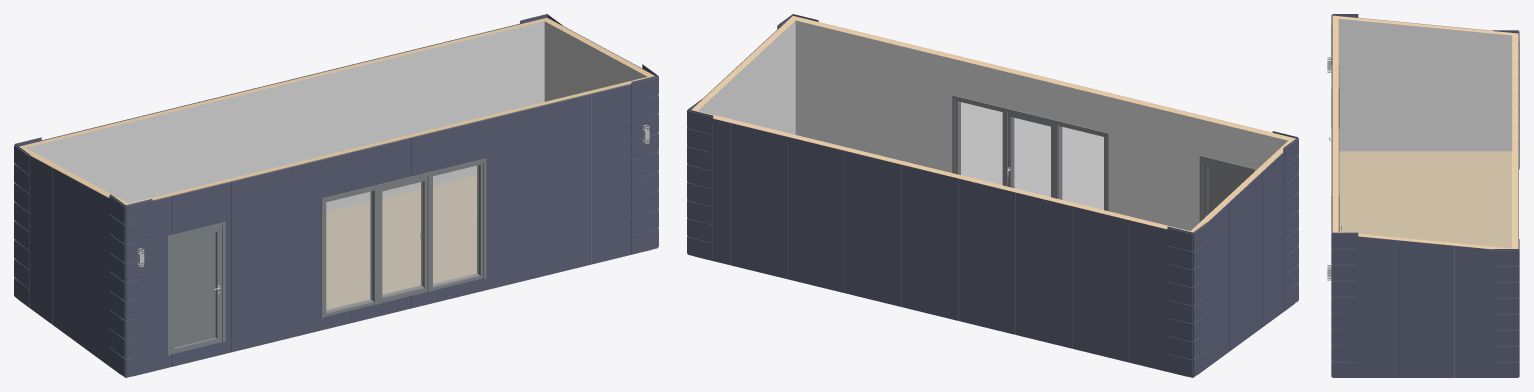
File: rastine@coliuke.vilnius.lm.fbx
3 renders of one model, left to right at view 1: azimuth 30°, elevation 25°; view 2: azimuth 150°, elevation 25°; view 3: azimuth 270°, elevation 25°, orthographic. The views are drawn at different scales.
Parts seen in each view (by area): view 1: IfcWall/Part:2397154, IfcSlab/Part:2319985, IfcPlate/System Panel:Sandwich užbaigimas Multisplit:3736130, IfcPlate/System Panel:Sandwich užbaigimas Multisplit:3736140, IfcBuildingElementProxy/Kampai Kvadratiniai - line based:Mu. (×3), IfcPlate/System Panel:Sandwich užbaigimas Multisplit:3736132, IfcPlate/System Panel:Sandwich užbaigimas Multisplit:3736127, IfcDoor/Durys išorinės:1000x2100x120 (kairinės):2439432, IfcWindow/Langai (Akrusta):1000x2100x120:3747501, IfcPlate/System Panel:Sandwich užbaigimas Multisplit:3736138, IfcWindow/Langai (Akrusta):1000x2100x120:2624920, IfcWindow/Langai (Akrusta):1000x2100x120 (dešininis):2574595 (+13 smaller); view 2: IfcWall/Part:2319976, IfcBuildingElementProxy/Kampai Kvadratiniai - line based:Mu. (×4), IfcPlate/System Panel:Sandwich užbaigimas Multisplit:3736084, IfcPlate/System Panel:Sandwich užbaigimas Multisplit:3736082, IfcPlate/System Panel:Sandwich užbaigimas Multisplit:3736086, IfcPlate/System Panel:Sandwich užbaigimas Multisplit:3736078, IfcPlate/System Panel:Sandwich užbaigimas Multisplit:3736074, IfcPlate/System Panel:Sandwich užbaigimas Multisplit:3736080, IfcPlate/System Panel:Sandwich užbaigimas Multisplit:3736076, IfcWall/Part:2397151, IfcPlate/System Panel:Sandwich užbaigimas Multisplit:3736071, IfcPlate/System Panel:Sandwich užbaigimas Multisplit:3736112 (+11 smaller); view 3: IfcWall/Part:2368365, IfcSlab/Part:2319985, IfcPlate/System Panel:Sandwich užbaigimas Multisplit:3736058, IfcPlate/System Panel:Sandwich užbaigimas Multisplit:3736060, IfcPlate/System Panel:Sandwich užbaigimas Multisplit:3736055, IfcBuildingElementProxy/Kampai Kvadratiniai - line based:Mu. (×2), IfcBuildingElementProxy/Kampai Kvadratiniai - line based:Mu, IfcWall/Part:2319978, IfcWall/Part:2397156, IfcWall/Part:2368367, IfcWall/Part:2397153, IfcBuildingElementProxy/Kampai Kvadratiniai - line based:Mul (+3 smaller).
Part boxes in pixels (left/top/right/bottom): IfcWall/Part:2397154: left=25, top=21, right=544, bottom=211; IfcSlab/Part:2319985: left=326, top=175, right=476, bottom=309; IfcPlate/System Panel:Sandwich užbaigimas Multisplit:3736130: left=531, top=94, right=591, bottom=278; IfcPlate/System Panel:Sandwich užbaigimas Multisplit:3736140: left=231, top=167, right=290, bottom=352; IfcBuildingElementProxy/Kampai Kvadratiniai - line based:Mu. (×3): left=14, top=144, right=152, bottom=377; IfcPlate/System Panel:Sandwich užbaigimas Multisplit:3736132: left=471, top=109, right=531, bottom=293; IfcPlate/System Panel:Sandwich užbaigimas Multisplit:3736127: left=592, top=84, right=651, bottom=264; IfcDoor/Durys išorinės:1000x2100x120 (kairinės):2439432: left=167, top=222, right=225, bottom=355; IfcWindow/Langai (Akrusta):1000x2100x120:3747501: left=427, top=158, right=486, bottom=291; IfcPlate/System Panel:Sandwich užbaigimas Multisplit:3736138: left=291, top=153, right=350, bottom=337; IfcWindow/Langai (Akrusta):1000x2100x120:2624920: left=321, top=185, right=379, bottom=317; IfcWindow/Langai (Akrusta):1000x2100x120 (dešininis):2574595: left=370, top=171, right=432, bottom=304; IfcWall/Part:2319976: left=795, top=20, right=1288, bottom=231; IfcBuildingElementProxy/Kampai Kvadratiniai - line based:Mu. (×4): left=687, top=109, right=1298, bottom=377; IfcPlate/System Panel:Sandwich užbaigimas Multisplit:3736084: left=787, top=137, right=844, bottom=292; IfcPlate/System Panel:Sandwich užbaigimas Multisplit:3736082: left=844, top=151, right=901, bottom=306; IfcPlate/System Panel:Sandwich užbaigimas Multisplit:3736086: left=730, top=123, right=787, bottom=278; IfcPlate/System Panel:Sandwich užbaigimas Multisplit:3736078: left=959, top=178, right=1015, bottom=334; IfcPlate/System Panel:Sandwich užbaigimas Multisplit:3736074: left=1073, top=206, right=1129, bottom=362; IfcPlate/System Panel:Sandwich užbaigimas Multisplit:3736080: left=902, top=164, right=958, bottom=320; IfcPlate/System Panel:Sandwich užbaigimas Multisplit:3736076: left=1016, top=192, right=1072, bottom=348; IfcWall/Part:2397151: left=698, top=20, right=795, bottom=134; IfcPlate/System Panel:Sandwich užbaigimas Multisplit:3736071: left=1130, top=220, right=1186, bottom=376; IfcPlate/System Panel:Sandwich užbaigimas Multisplit:3736112: left=1229, top=172, right=1261, bottom=351; IfcWall/Part:2368365: left=1338, top=18, right=1512, bottom=151; IfcSlab/Part:2319985: left=1339, top=151, right=1512, bottom=248; IfcPlate/System Panel:Sandwich užbaigimas Multisplit:3736058: left=1396, top=240, right=1453, bottom=377; IfcPlate/System Panel:Sandwich užbaigimas Multisplit:3736060: left=1338, top=236, right=1395, bottom=377; IfcPlate/System Panel:Sandwich užbaigimas Multisplit:3736055: left=1454, top=246, right=1512, bottom=377; IfcBuildingElementProxy/Kampai Kvadratiniai - line based:Mu. (×2): left=1332, top=232, right=1519, bottom=377; IfcBuildingElementProxy/Kampai Kvadratiniai - line based:Mu: left=1492, top=249, right=1518, bottom=377; IfcWall/Part:2319978: left=1332, top=15, right=1338, bottom=231; IfcWall/Part:2397156: left=1512, top=33, right=1518, bottom=248; IfcWall/Part:2368367: left=1338, top=16, right=1512, bottom=35; IfcWall/Part:2397153: left=1332, top=231, right=1512, bottom=249; IfcBuildingElementProxy/Kampai Kvadratiniai - line based:Mul: left=1331, top=222, right=1332, bottom=377.
Size of the model in its own units: 1004 by 310 by 372.
